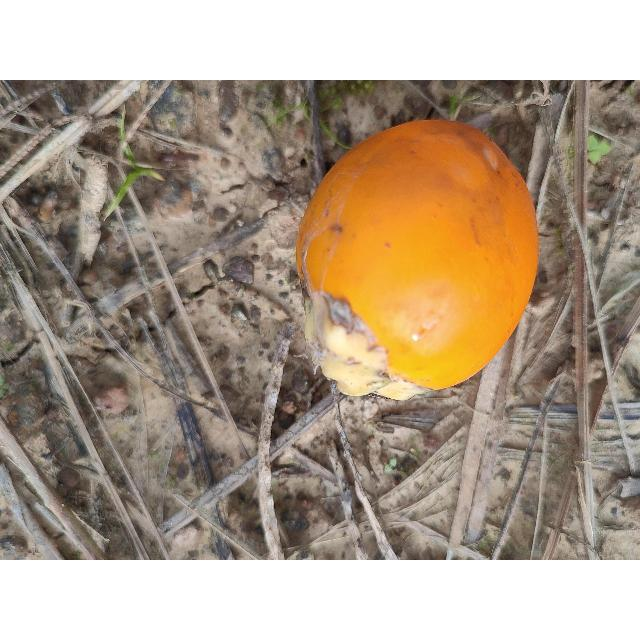good: (295, 119, 540, 397)
